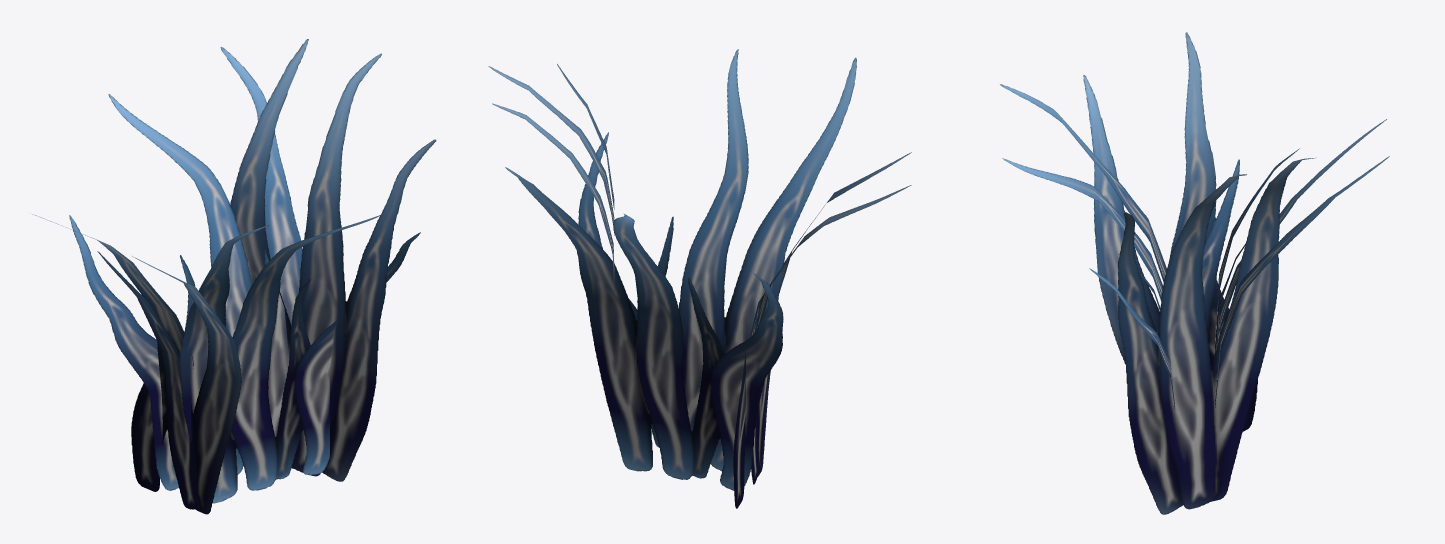
File: MarshGrassClump_a01.fbx
The picture shows the model from 3 angles, left to right: view 1: azimuth 30°, elevation 25°; view 2: azimuth 150°, elevation 25°; view 3: azimuth 270°, elevation 25°; orthographic projection. The views are drawn at different scales.
Visible parts, largest first — view 1: GrassClump_a01; view 2: GrassClump_a01; view 3: GrassClump_a01.
Boxes of the visible parts, bbox=[...] form: GrassClump_a01: bbox=[32, 39, 436, 514]; GrassClump_a01: bbox=[488, 49, 911, 508]; GrassClump_a01: bbox=[1000, 32, 1389, 514].
Bounding box in the file's own units: 235 × 215 × 234.
